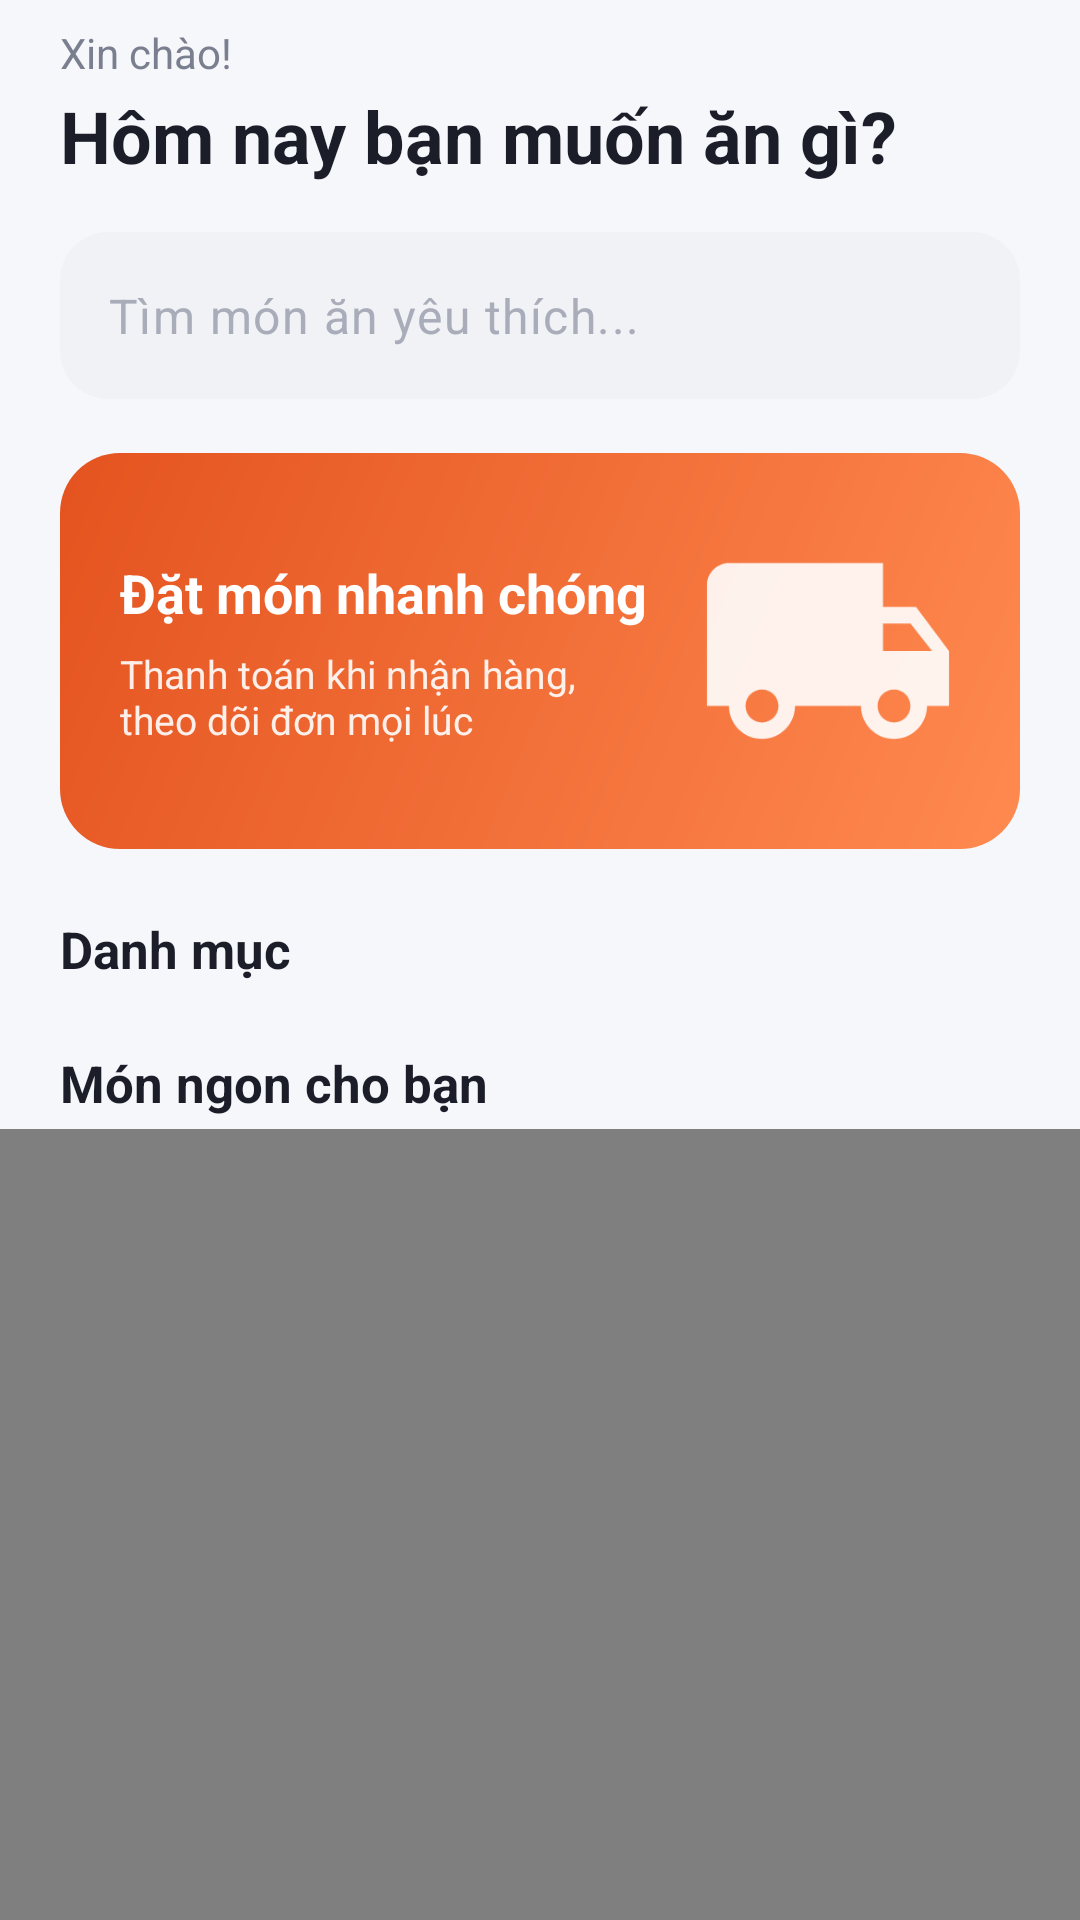

Icon click points for this 1080px x 1920px phone screenshot, format (x,y):
truck: (828,651)
